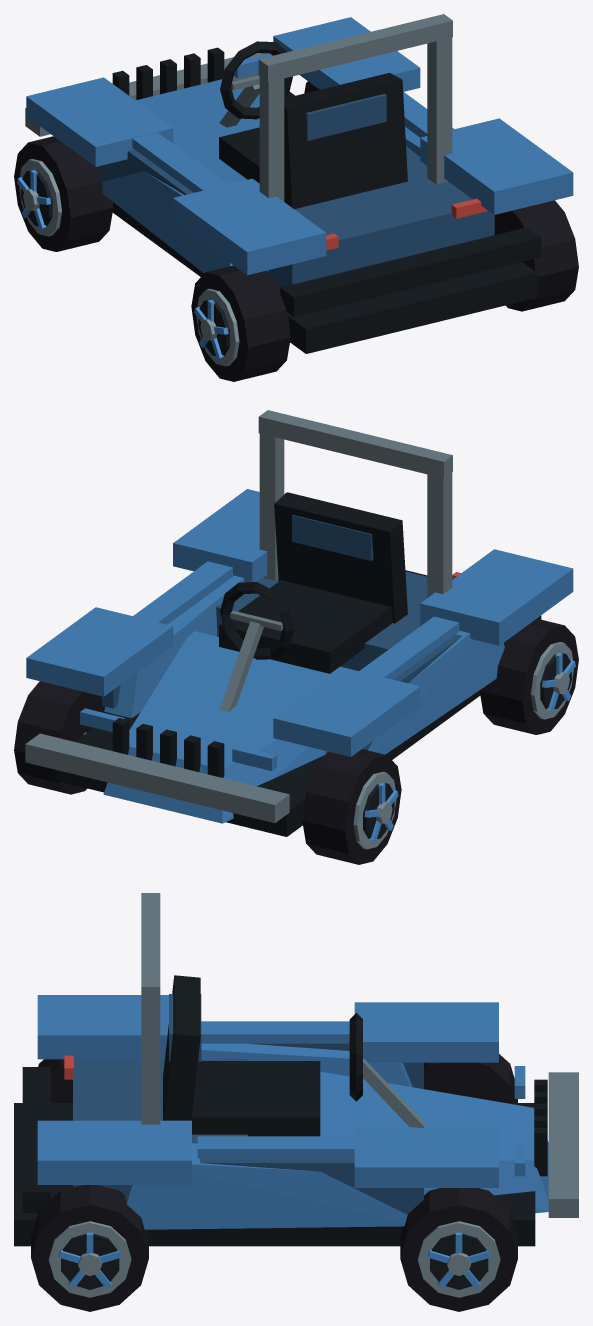
File: kart.glb
The picture shows the model from 3 angles, top to bottom: view 1: azimuth 30°, elevation 25°; view 2: azimuth 150°, elevation 25°; view 3: azimuth 270°, elevation 25°; orthographic projection. The views are drawn at different scales.
Visible parts, largest first — view 1: chassis, wheel-rear-left, wheel-front-left, wheel-rear-right; view 2: chassis, wheel-front-left, wheel-rear-left, wheel-front-right; view 3: chassis, wheel-rear-right, wheel-front-right, wheel-front-left, wheel-rear-left.
Boxes of the visible parts, <box> form: chassis: <box>25,14,573,353</box>; wheel-rear-left: <box>191,265,290,381</box>; wheel-front-left: <box>14,136,113,251</box>; wheel-rear-right: <box>494,200,578,311</box>; chassis: <box>25,410,573,836</box>; wheel-front-left: <box>302,749,401,864</box>; wheel-rear-left: <box>479,618,578,734</box>; wheel-front-right: <box>14,681,112,794</box>; chassis: <box>14,893,578,1246</box>; wheel-rear-right: <box>31,1185,148,1311</box>; wheel-front-right: <box>400,1188,517,1311</box>; wheel-front-left: <box>424,1054,517,1102</box>; wheel-rear-left: <box>38,1059,72,1102</box>.
Bounding box in the file's own units: 2.26 × 1.67 × 2.97.
